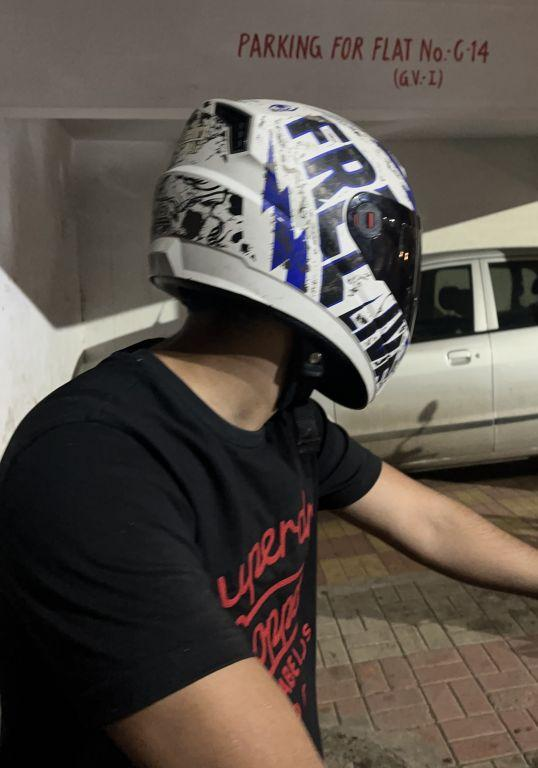helmet: (135, 80, 428, 421)
